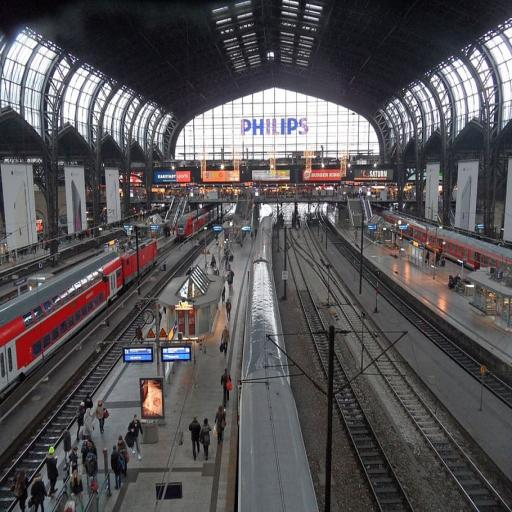platform_edge: (84, 321, 139, 404)
